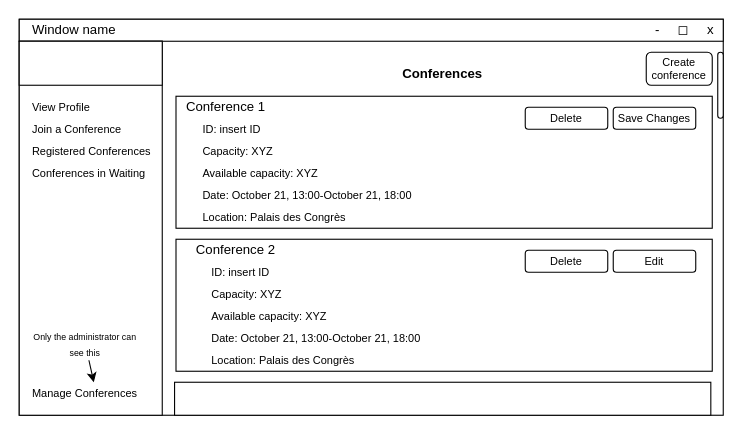
Some shapes in this 743 by 435 pixel diagram are drawn without their labels. The shapes that lost their labels are listed below. From the top down, each one's centre as x and y in pixels, then its label:
point (90, 62): ConCentral
point (442, 398): Conference 3
